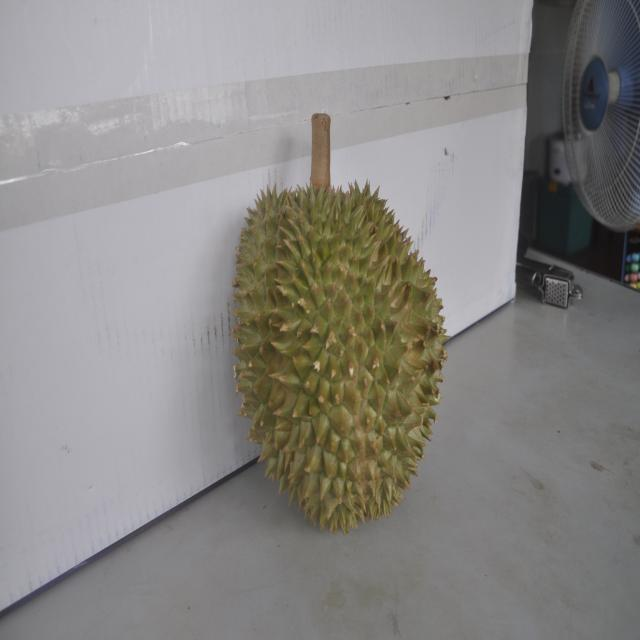mature: (229, 161, 441, 529)
